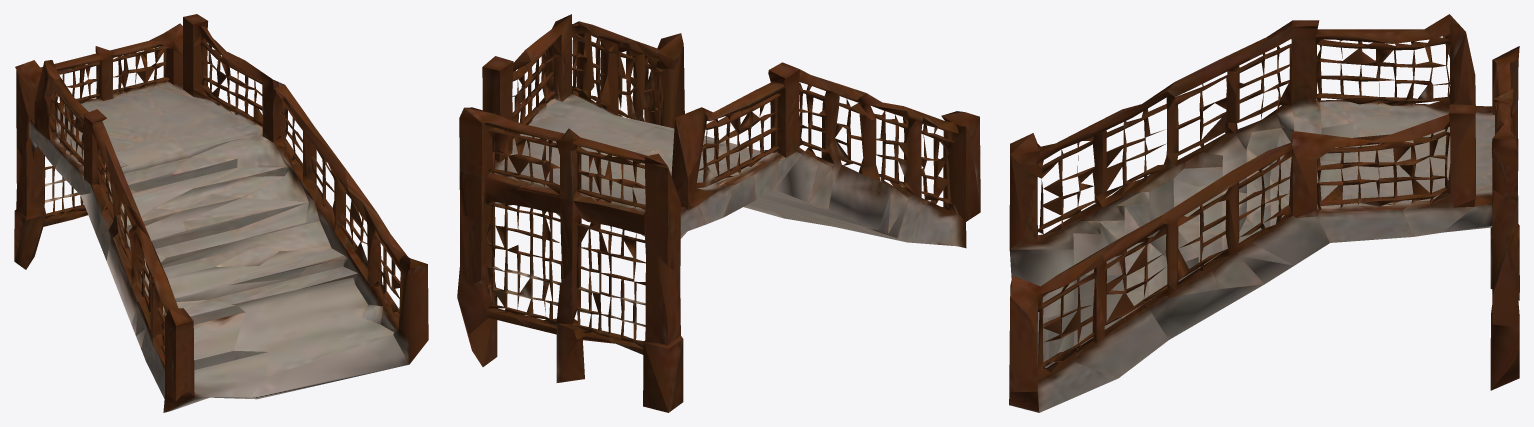
Rendered from tangga_westin_lod2.glb.
3 views of the same model, side by side, from view 1: azimuth 30°, elevation 25°; view 2: azimuth 150°, elevation 25°; view 3: azimuth 270°, elevation 25° (orthographic). The views are drawn at different scales.
Parts seen in each view (by area): view 1: tripo_node_87b19e1a-cba5-4ec0-bc42-f87f93abc6fe; view 2: tripo_node_87b19e1a-cba5-4ec0-bc42-f87f93abc6fe; view 3: tripo_node_87b19e1a-cba5-4ec0-bc42-f87f93abc6fe.
Part boxes in pixels (x1,y1,x2,y2): tripo_node_87b19e1a-cba5-4ec0-bc42-f87f93abc6fe: [14, 14, 428, 412]; tripo_node_87b19e1a-cba5-4ec0-bc42-f87f93abc6fe: [457, 14, 980, 412]; tripo_node_87b19e1a-cba5-4ec0-bc42-f87f93abc6fe: [1009, 14, 1519, 412].
Size of the model in its own units: 0.7143 by 0.596 by 0.9976.
1 material, 1 textured.
